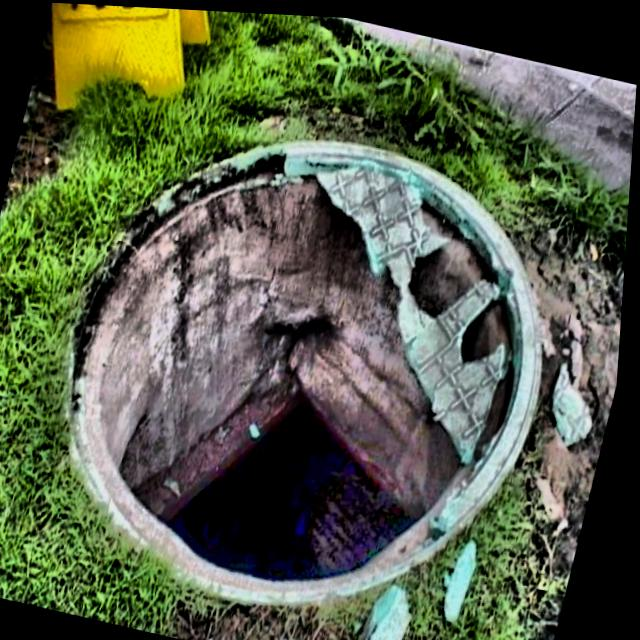open_manhole: (73, 137, 545, 599)
